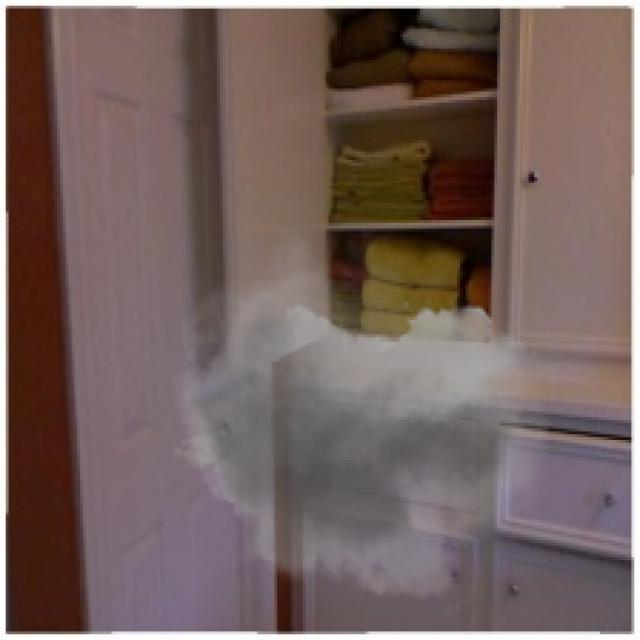smoke: (160, 226, 551, 617)
